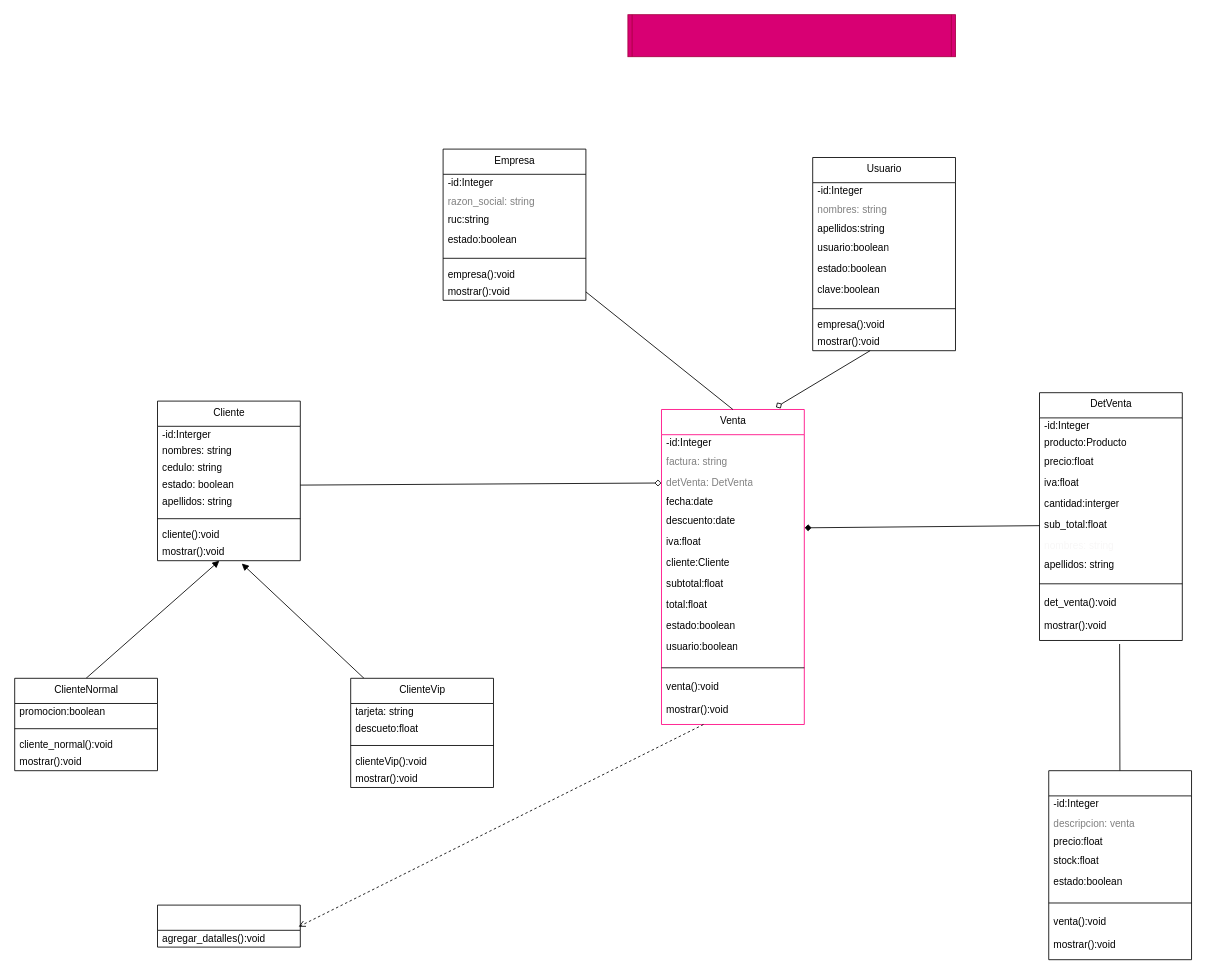
The diagram is 1206 pixels wide and 974 high, and some of its shapes have lost their labels. Each missing label, with the box of its shape:
Diagrama de modulos de facturacion: (627, 14, 956, 57)
Icalculos: (157, 904, 300, 947)
Producto: (1048, 770, 1192, 960)
